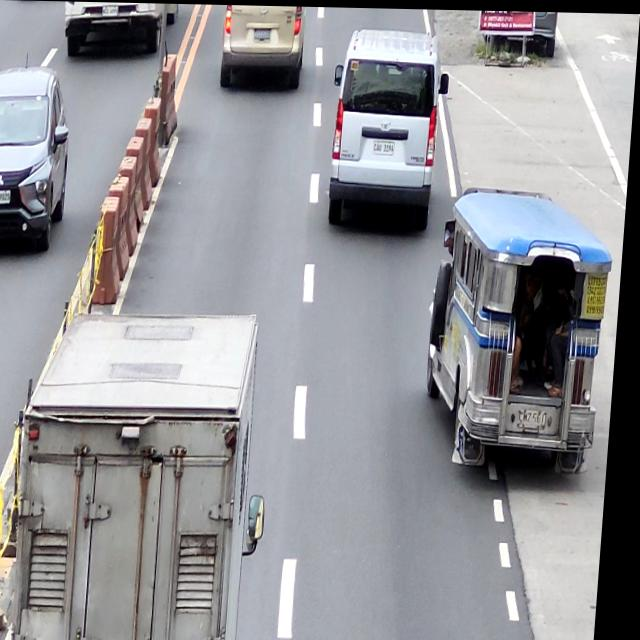Car: (327, 27, 454, 231), (217, 4, 308, 92)
Jeep: (425, 183, 618, 480)
License-Plate: (525, 407, 554, 425), (374, 139, 397, 155), (254, 28, 272, 38)
Truck: (20, 308, 285, 640)
